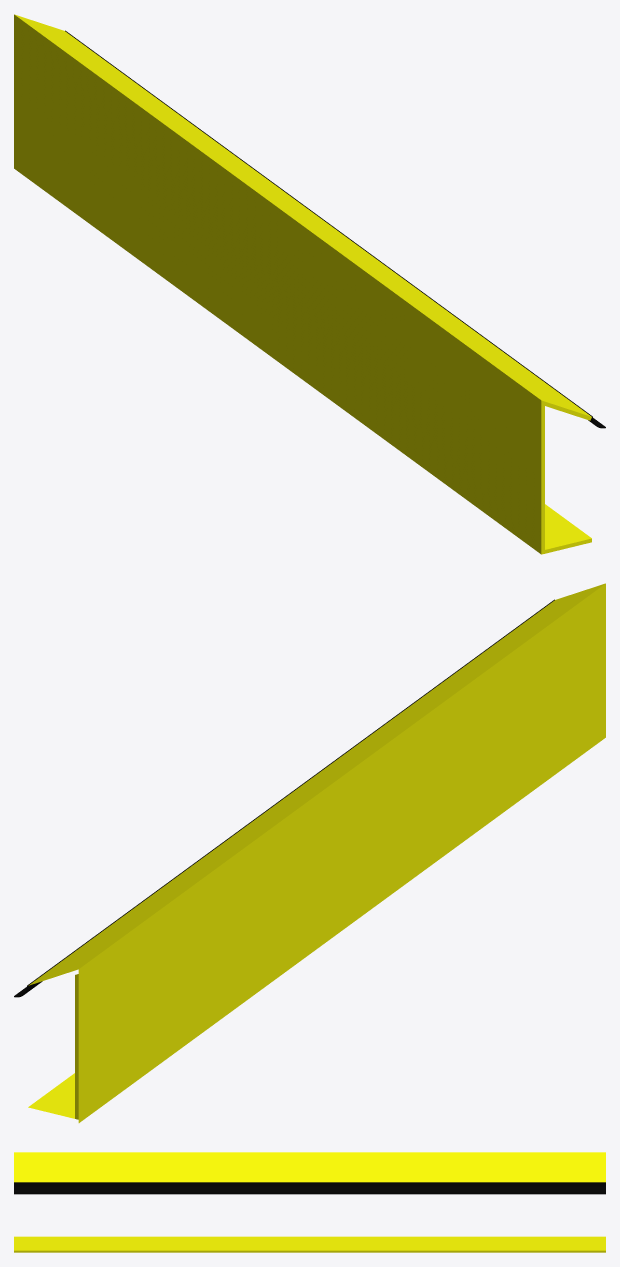
File: wallProfile.glb
3 renders of one model, top to bottom at view 1: azimuth 30°, elevation 25°; view 2: azimuth 150°, elevation 25°; view 3: azimuth 270°, elevation 25°, orthographic. The views are drawn at different scales.
Visible parts, largest first — view 1: Group2, Group1; view 2: Group2, Group1; view 3: Group2, Group1.
Boxes of the visible parts, x1,y1,x2,y2 form: Group2: (14,14,591,554); Group1: (65,30,605,428); Group2: (28,583,605,1122); Group1: (14,599,554,997); Group2: (14,1152,605,1252); Group1: (14,1182,605,1194).
Bounding box in the file's own units: 0.0701 × 0.16 × 0.992.
Materials: 2 (1 with a texture image).
